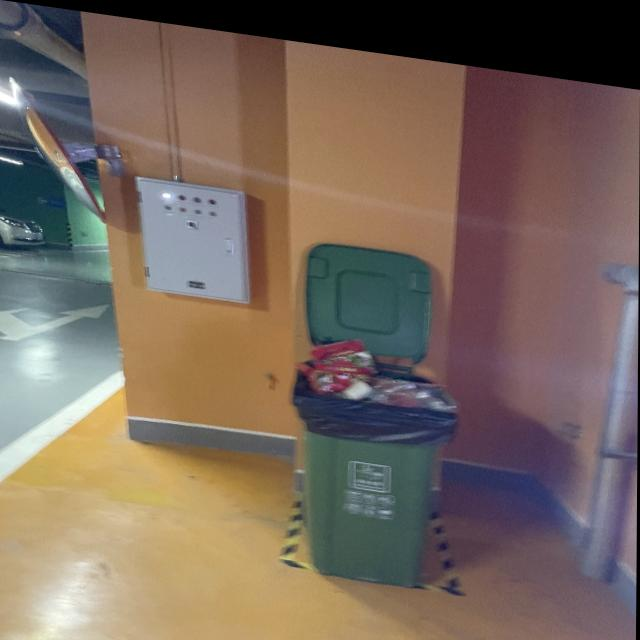overflow: (288, 323, 455, 579)
